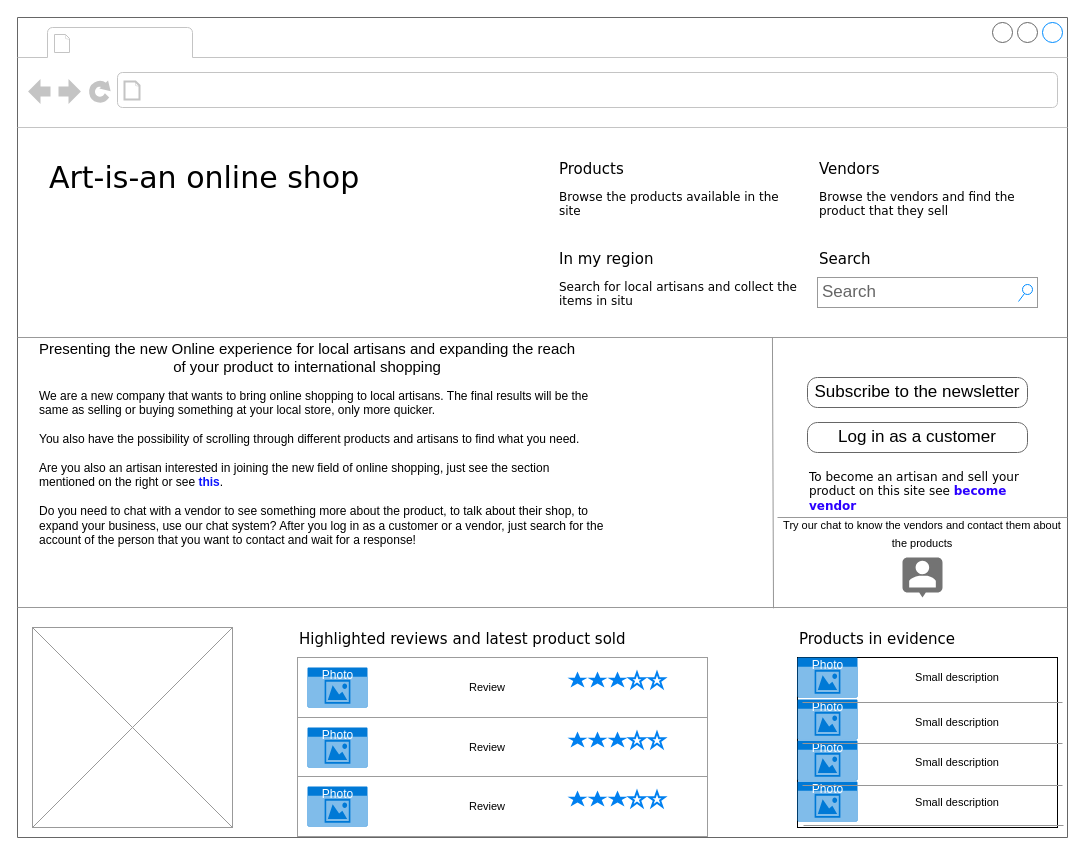
This 1085x855 diagram has some shape labels left out. The shapes that lost their labels are listed below. From the top down, each one's centre as x and y in pixels, then its label:
At pixel 132 42: "Artisanonli...".
At pixel 272 90: "https://www.artisanonlineshop.com".
